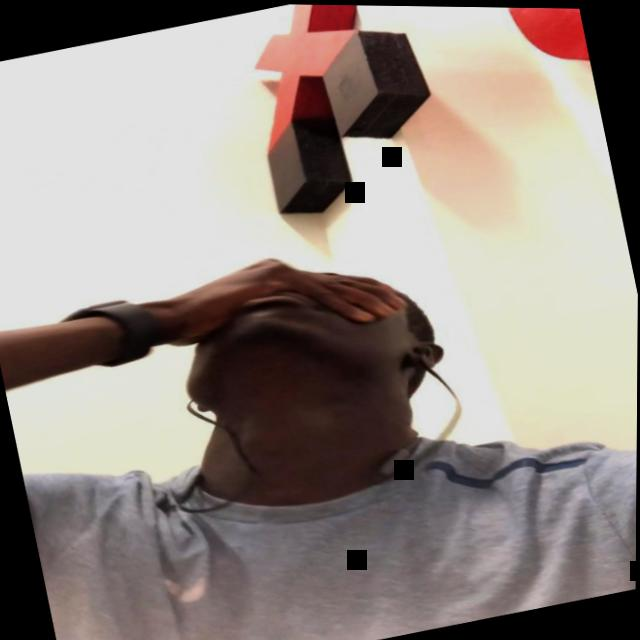NO-Mask: (173, 254, 423, 421)
